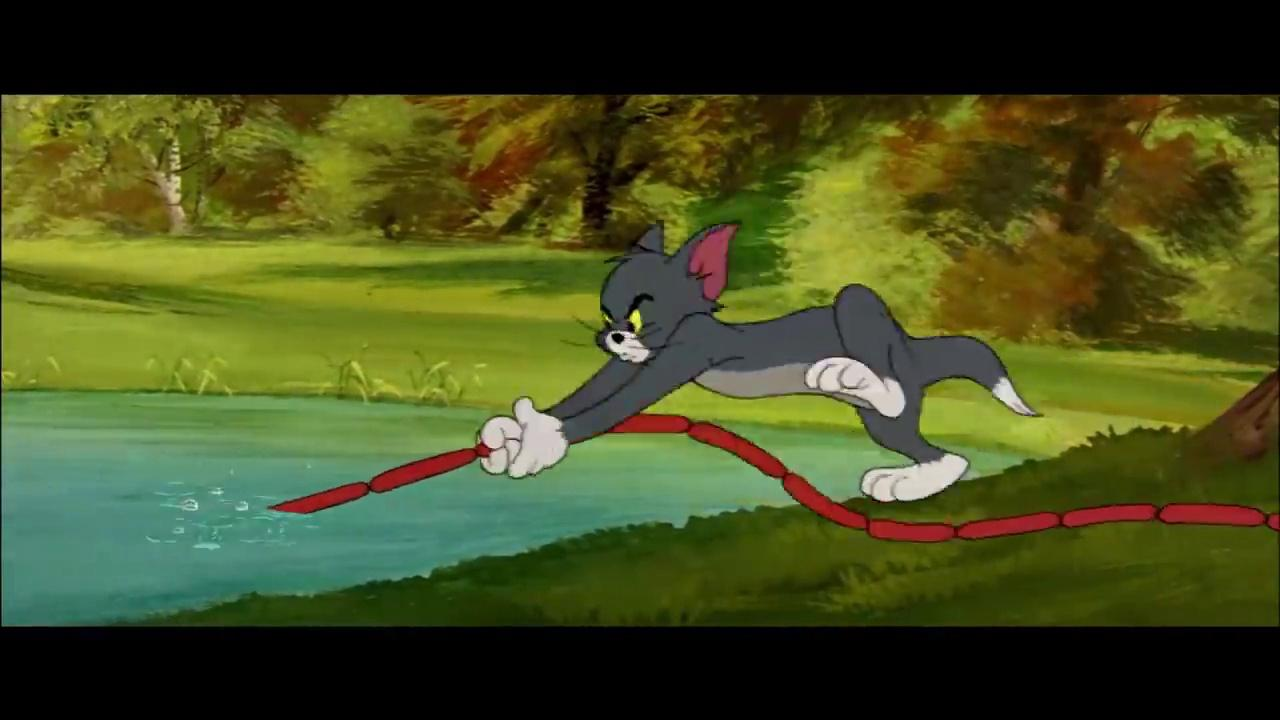Tom: (474, 216, 1046, 506)
